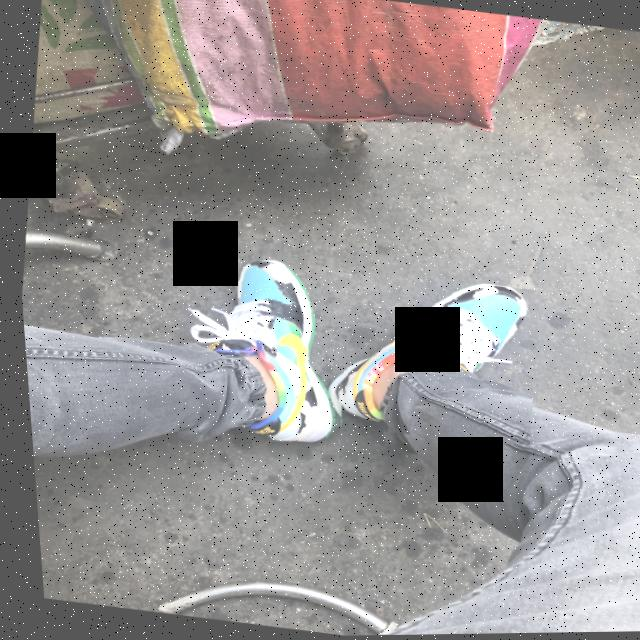shoe: (158, 238, 361, 469), (307, 264, 545, 456)
